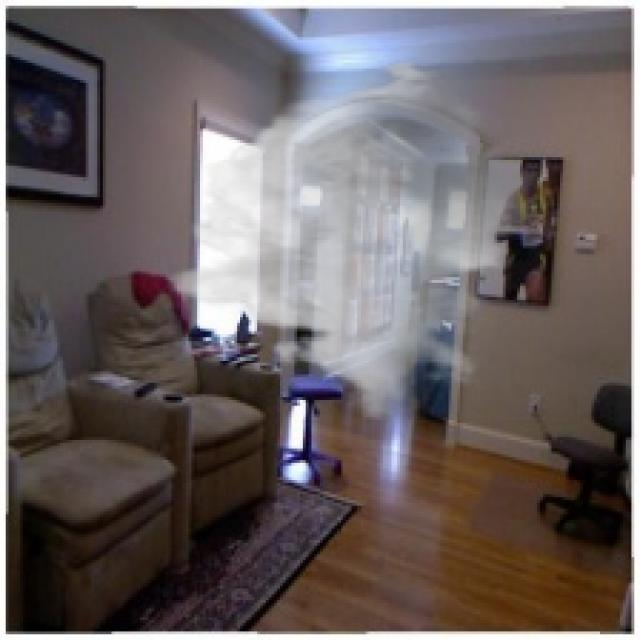smoke: (163, 57, 548, 423)
